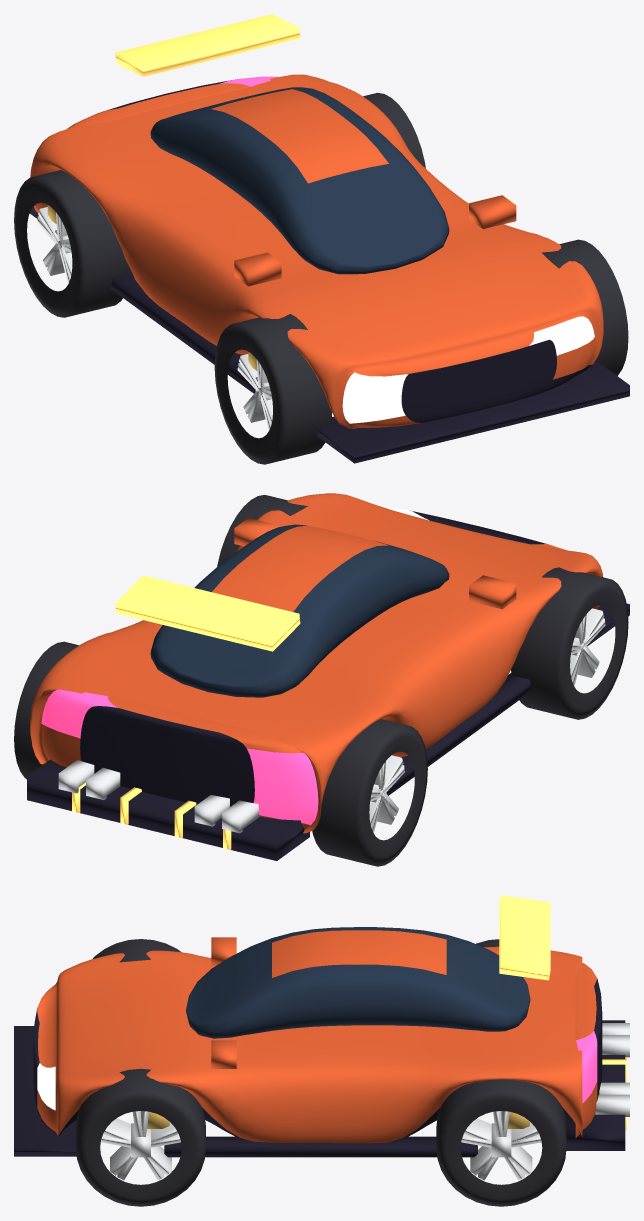
The model's file is jugnu.glb.
3 renders of one model, top to bottom at view 1: azimuth 30°, elevation 25°; view 2: azimuth 150°, elevation 25°; view 3: azimuth 270°, elevation 25°, orthographic. The views are drawn at different scales.
Visible parts, largest first — view 1: Chassis, Wheel_FR, Wheel_RR, Wheel_FL, Wheel_RL; view 2: Chassis, Wheel_FR, Wheel_RR, Wheel_RL, Wheel_FL; view 3: Chassis, Wheel_FL, Wheel_RL, Wheel_FR.
Part boxes in pixels (bbox=[...]): Chassis: bbox=[30, 14, 629, 463]; Wheel_FR: bbox=[214, 314, 332, 464]; Wheel_RR: bbox=[14, 170, 131, 317]; Wheel_FL: bbox=[542, 239, 628, 375]; Wheel_RL: bbox=[363, 92, 425, 168]; Chassis: bbox=[27, 493, 629, 860]; Wheel_FR: bbox=[511, 567, 628, 719]; Wheel_RR: bbox=[312, 719, 427, 866]; Wheel_RL: bbox=[14, 641, 78, 779]; Wheel_FL: bbox=[217, 495, 307, 566]; Chassis: bbox=[14, 895, 629, 1157]; Wheel_FL: bbox=[75, 1068, 205, 1206]; Wheel_RL: bbox=[436, 1079, 566, 1206]; Wheel_FR: bbox=[93, 939, 181, 962].
Size of the model in its own units: 2.3 by 1.42 by 3.93.
